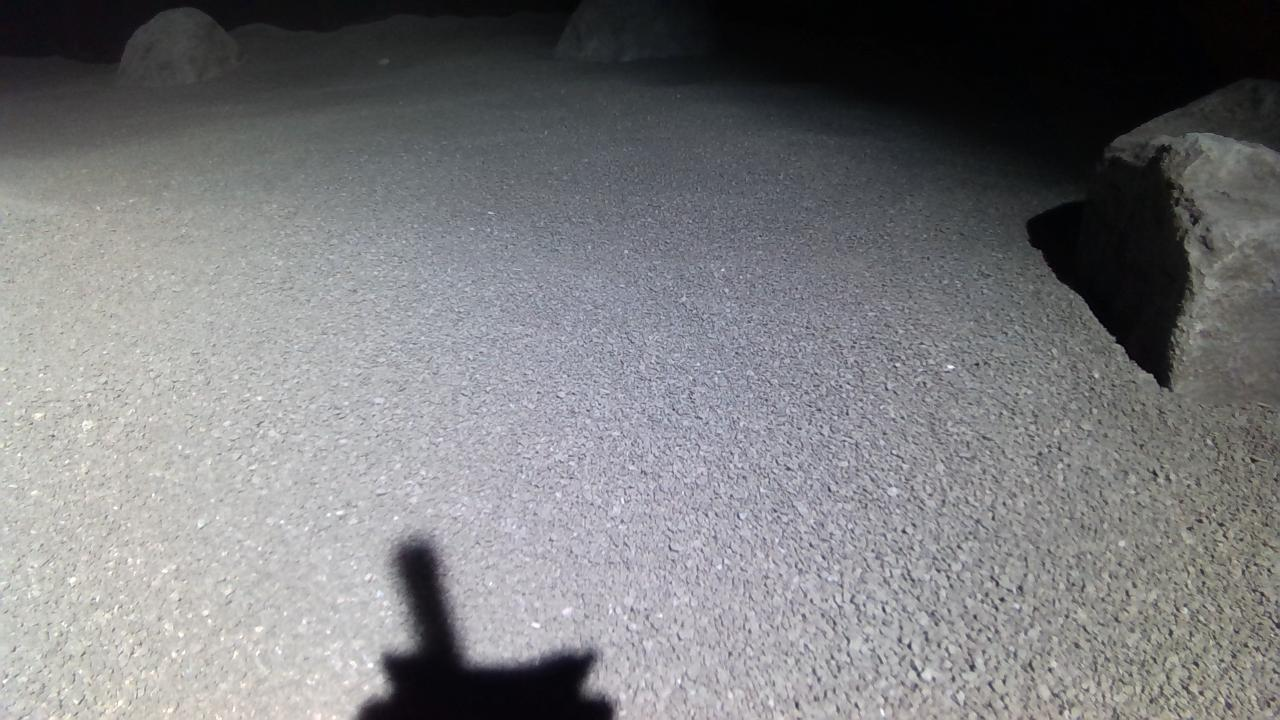rock: (1080, 78, 1280, 404), (555, 0, 719, 61), (115, 7, 240, 84)
